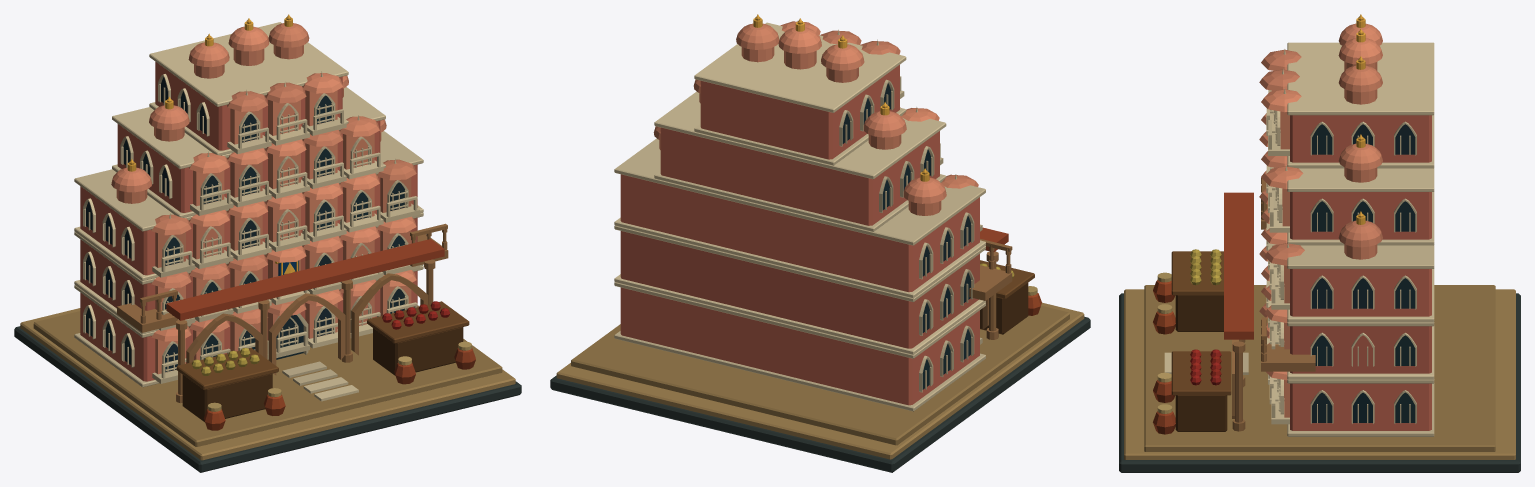
3 views of the same model, side by side, from view 1: azimuth 30°, elevation 25°; view 2: azimuth 150°, elevation 25°; view 3: azimuth 270°, elevation 25° (orthographic). The views are drawn at different scales.
Visible parts, largest first — view 1: market_L3_0, market_L3_1; view 2: market_L3_0; view 3: market_L3_0, market_L3_1.
Boxes of the visible parts, x1,y1,x2,y2 form: market_L3_0: (14, 17, 521, 472); market_L3_1: (127, 14, 298, 275); market_L3_0: (550, 17, 1090, 472); market_L3_0: (1119, 17, 1520, 472); market_L3_1: (1356, 14, 1365, 224).
Bounding box in the file's own units: 5.6 × 5.55 × 5.6.
